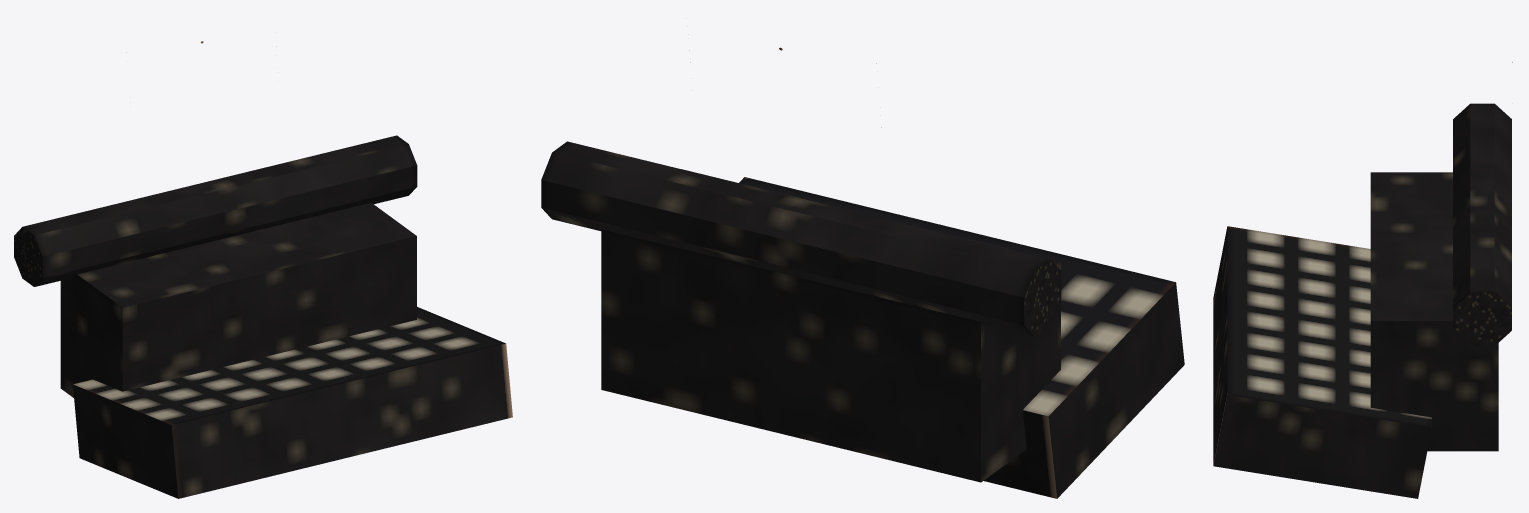
File: Atmos_Typewriter.fbx
The picture shows the model from 3 angles, left to right: view 1: azimuth 30°, elevation 25°; view 2: azimuth 150°, elevation 25°; view 3: azimuth 270°, elevation 25°; orthographic projection. The views are drawn at different scales.
Parts seen in each view (by area): view 1: Atmos_Typewriter; view 2: Atmos_Typewriter; view 3: Atmos_Typewriter.
Boxes of the visible parts, x1,y1,x2,y2 form: Atmos_Typewriter: (14, 41, 512, 498); Atmos_Typewriter: (541, 47, 1184, 498); Atmos_Typewriter: (1213, 62, 1512, 498).
Bounding box in the file's own units: 56 × 50.18 × 37.67.
Materials: 1 (1 with a texture image).
